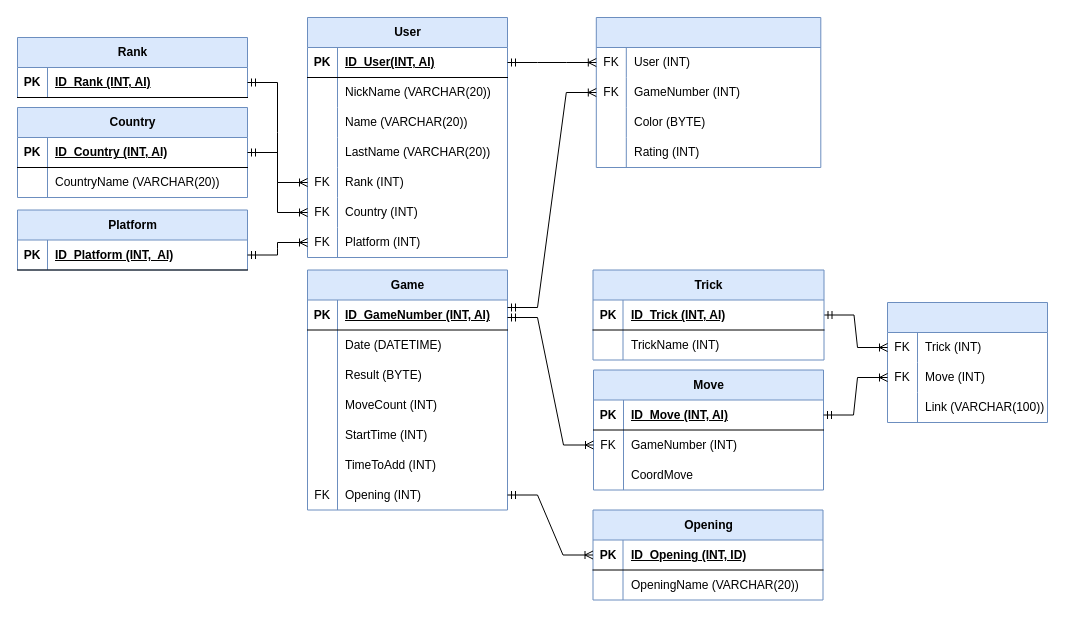
The diagram is 1065 pixels wide and 618 high, and some of its shapes have lost their labels. Each missing label, with the box of its shape:
Move_Trick: (886, 302, 1048, 422)
User_Game: (595, 16, 821, 168)
